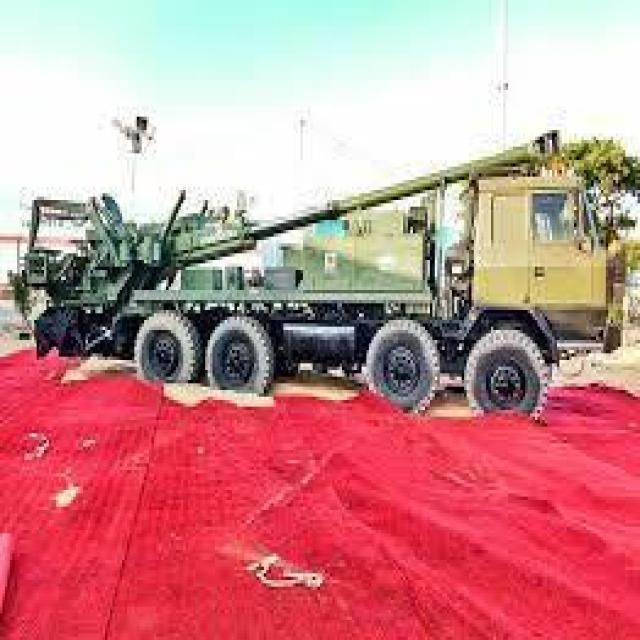MIL_MBT: (118, 180, 619, 443)
